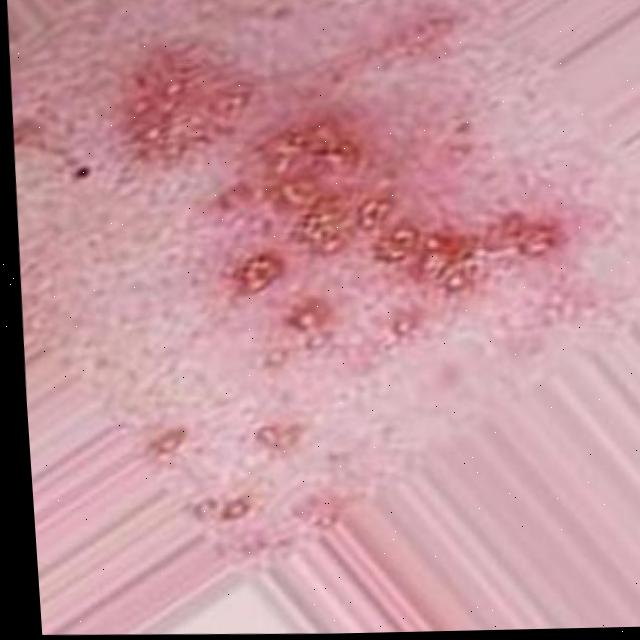Shingles: (237, 130, 546, 292), (122, 68, 231, 151)
